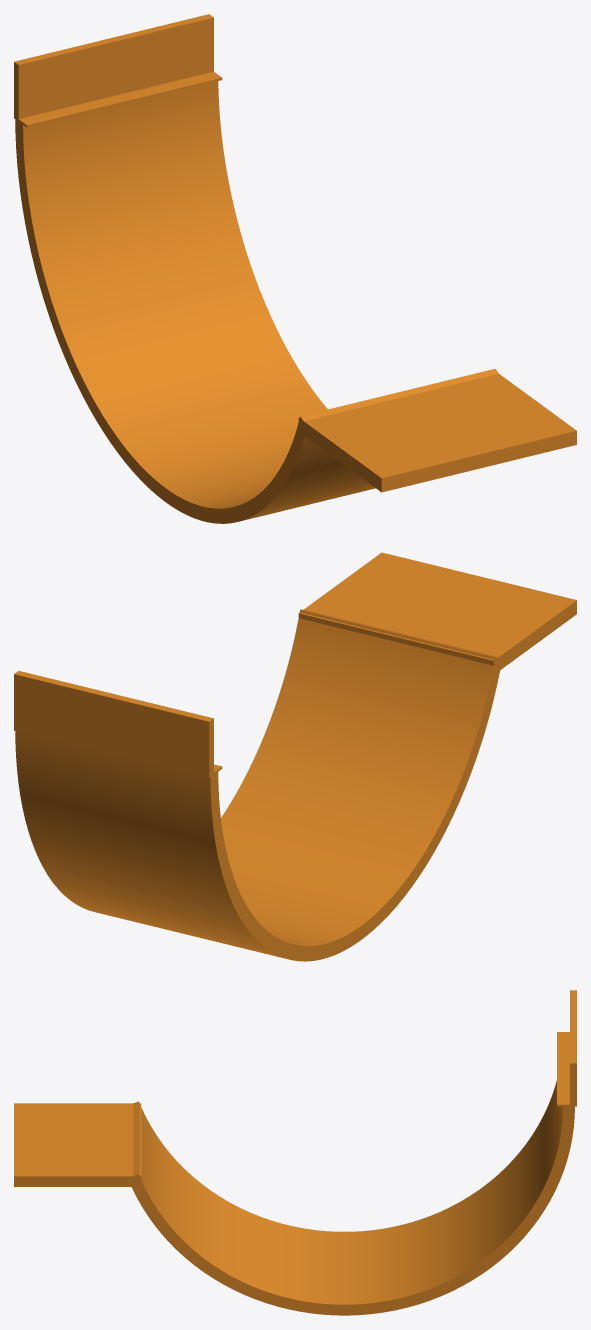
File: elev_concha.glb
3 views of the same model, one above another, from view 1: azimuth 30°, elevation 25°; view 2: azimuth 150°, elevation 25°; view 3: azimuth 270°, elevation 25° (orthographic). The views are drawn at different scales.
Visible parts, largest first — view 1: elev_concha; view 2: elev_concha; view 3: elev_concha.
Part boxes in pixels (left/top/right/bottom): elev_concha: left=14, top=14, right=576, bottom=523; elev_concha: left=14, top=552, right=576, bottom=961; elev_concha: left=14, top=990, right=576, bottom=1315.
Size of the model in its own units: 43.4 by 69.99 by 142.
